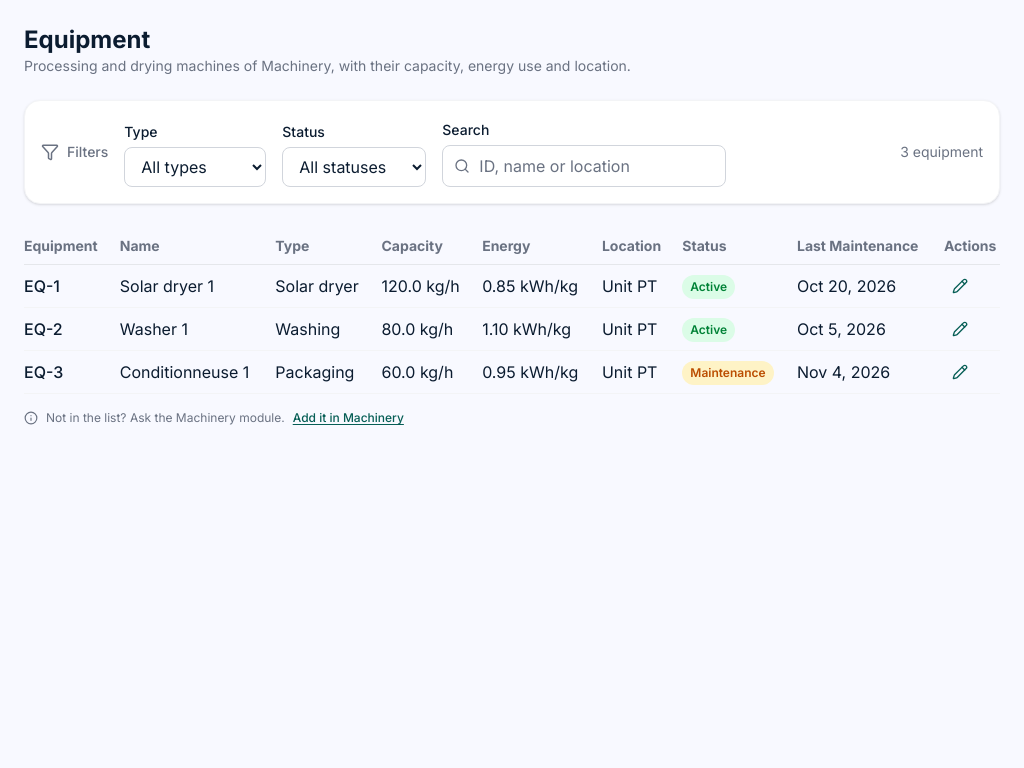
Test: EquipmentList › shows the server error in the form and closes it on Cancel
Check: the text "EQ-1" is shown, box [24,265,120,308]
Click the button named "Edit specs" in the row of "EQ-1": click(960, 286) [944,270,976,302]
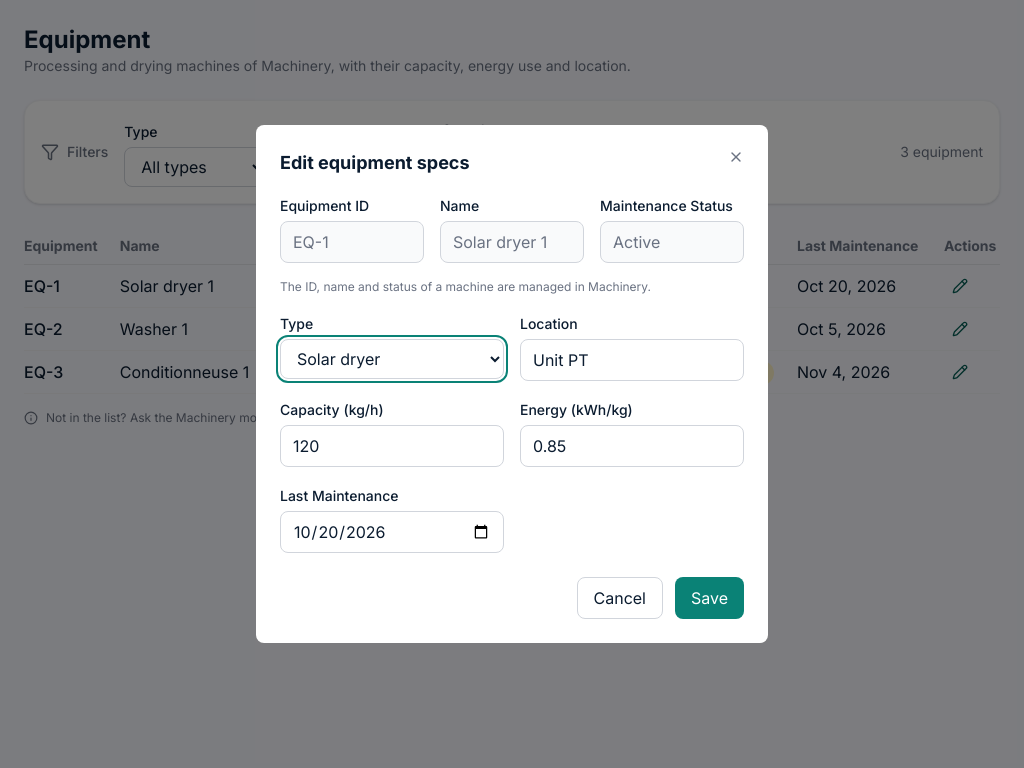
Click the button "Save": click(710, 598) [675,577,744,619]
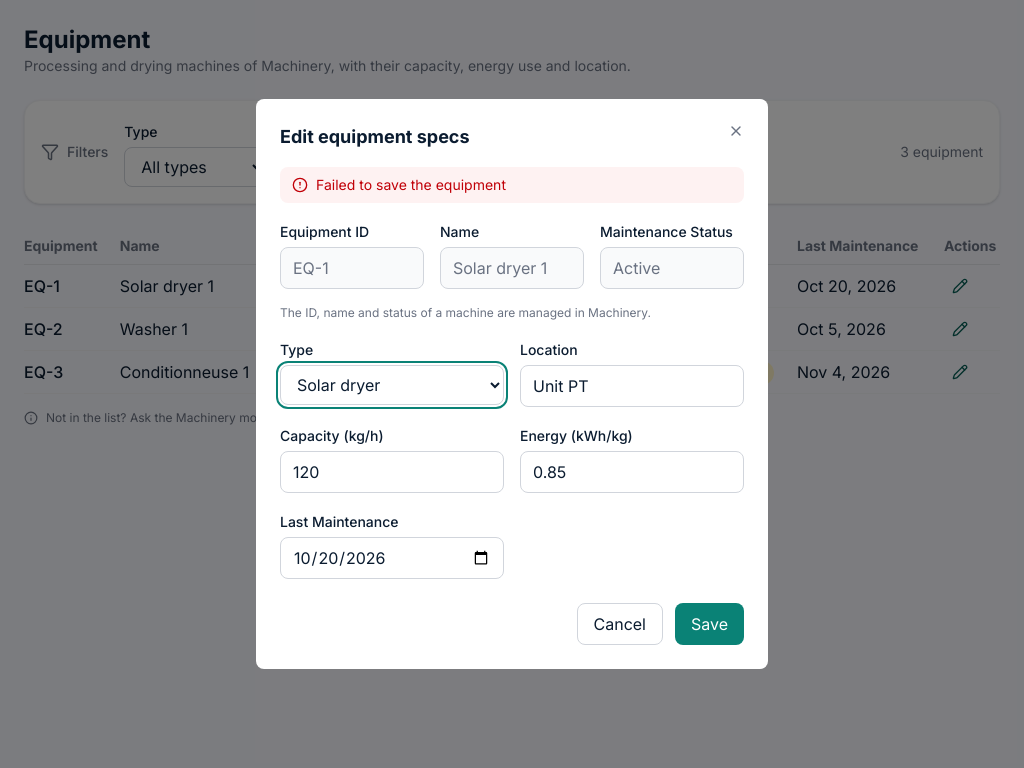
Check: the text "Failed to save the equipment" is shown, box [316,175,506,195]
Click the button "Cancel": click(620, 624) [576,603,663,645]
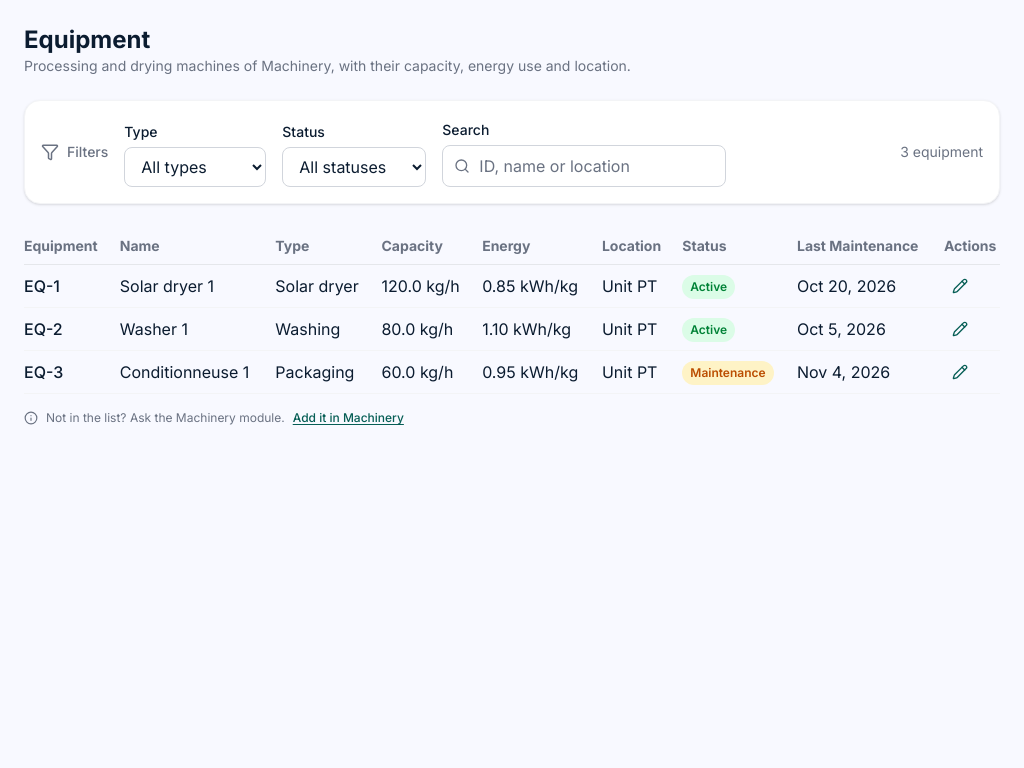
Check: the dialog is gone
